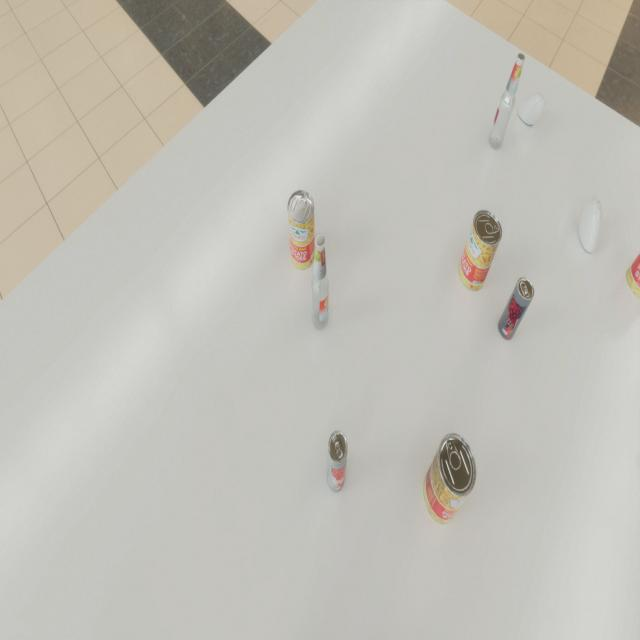Bottle: (489, 53, 525, 149), (310, 234, 330, 330)
Potato_sticks: (424, 433, 476, 524), (458, 210, 502, 291), (287, 190, 315, 270)
Rita_zero_sugar: (498, 277, 534, 340), (327, 431, 348, 492)
Salt: (579, 196, 602, 253), (518, 92, 546, 125)
